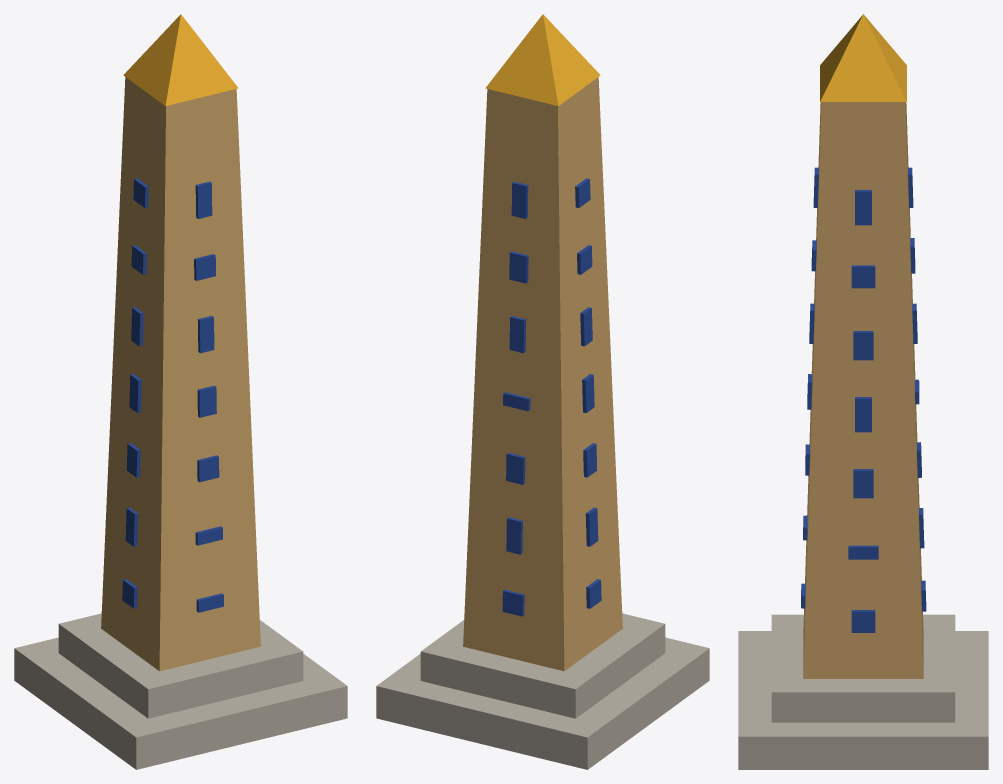
The model's file is obelisk.glb.
The picture shows the model from 3 angles, left to right: view 1: azimuth 30°, elevation 25°; view 2: azimuth 150°, elevation 25°; view 3: azimuth 270°, elevation 25°; orthographic projection. The views are drawn at different scales.
Visible parts, largest first — view 1: Obelisk shaft, Obelisk base, Obelisk glyphs, Obelisk tip; view 2: Obelisk shaft, Obelisk base, Obelisk glyphs, Obelisk tip; view 3: Obelisk shaft, Obelisk base, Obelisk glyphs, Obelisk tip.
Boxes of the visible parts, x1,y1,x2,y2 form: Obelisk shaft: (101,77,260,671); Obelisk base: (14,613,347,769); Obelisk glyphs: (122,178,223,612); Obelisk tip: (123,14,238,105); Obelisk shaft: (463,77,622,671); Obelisk base: (376,613,709,769); Obelisk glyphs: (502,178,601,616); Obelisk tip: (485,14,600,105); Obelisk shaft: (803,102,923,678); Obelisk base: (738,614,988,769); Obelisk glyphs: (801,167,926,632); Obelisk tip: (820,14,906,101).
Size of the model in its own units: 1.5 by 4.65 by 1.5.
